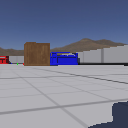blue_basket: (50, 51, 79, 65)
blue_cube: (9, 62, 12, 64)
green_cube: (16, 62, 18, 65)
obstacle: (24, 42, 50, 65)
red_basket: (1, 55, 9, 64)
red_cube: (23, 62, 25, 66)
